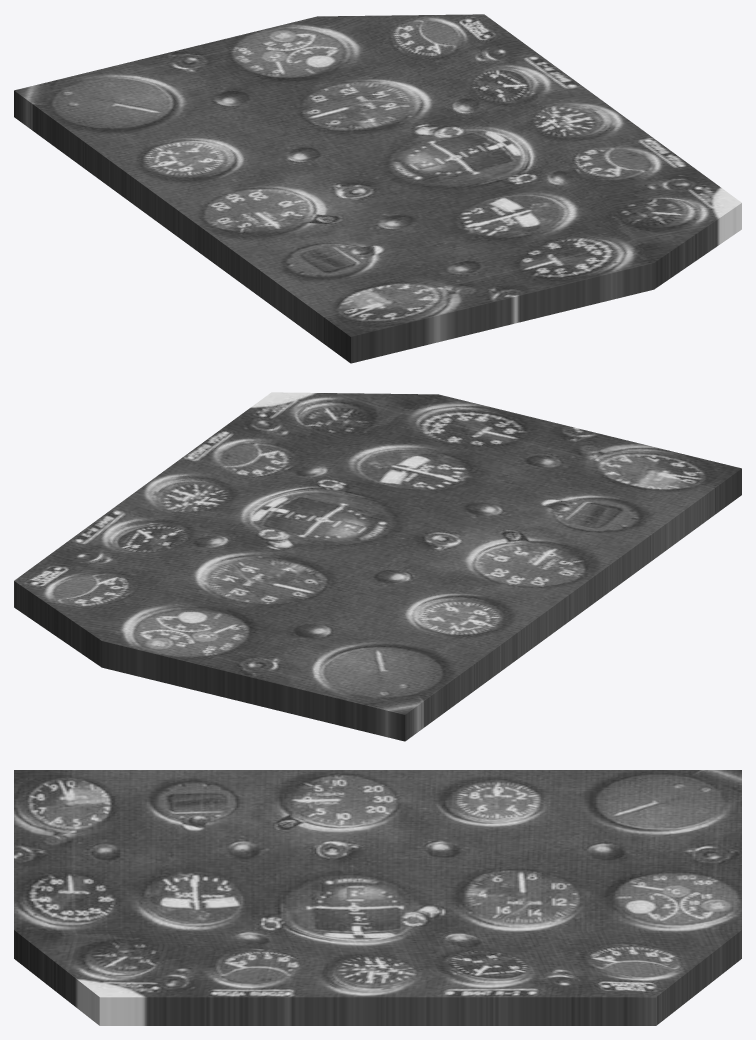
File: MIGPanelplate.fbx
3 renders of one model, top to bottom at view 1: azimuth 30°, elevation 25°; view 2: azimuth 150°, elevation 25°; view 3: azimuth 270°, elevation 25°, orthographic. The views are drawn at different scales.
Parts seen in each view (by area): view 1: Plane.001; view 2: Plane.001; view 3: Plane.001.
Part boxes in pixels (x1=…): Plane.001: x1=14, y1=14, x2=741, y2=363; Plane.001: x1=14, y1=392, x2=741, y2=741; Plane.001: x1=14, y1=770, x2=741, y2=1025.
Size of the model in its own units: 251 by 14.83 by 340.
Materials: 1 (1 with a texture image).
